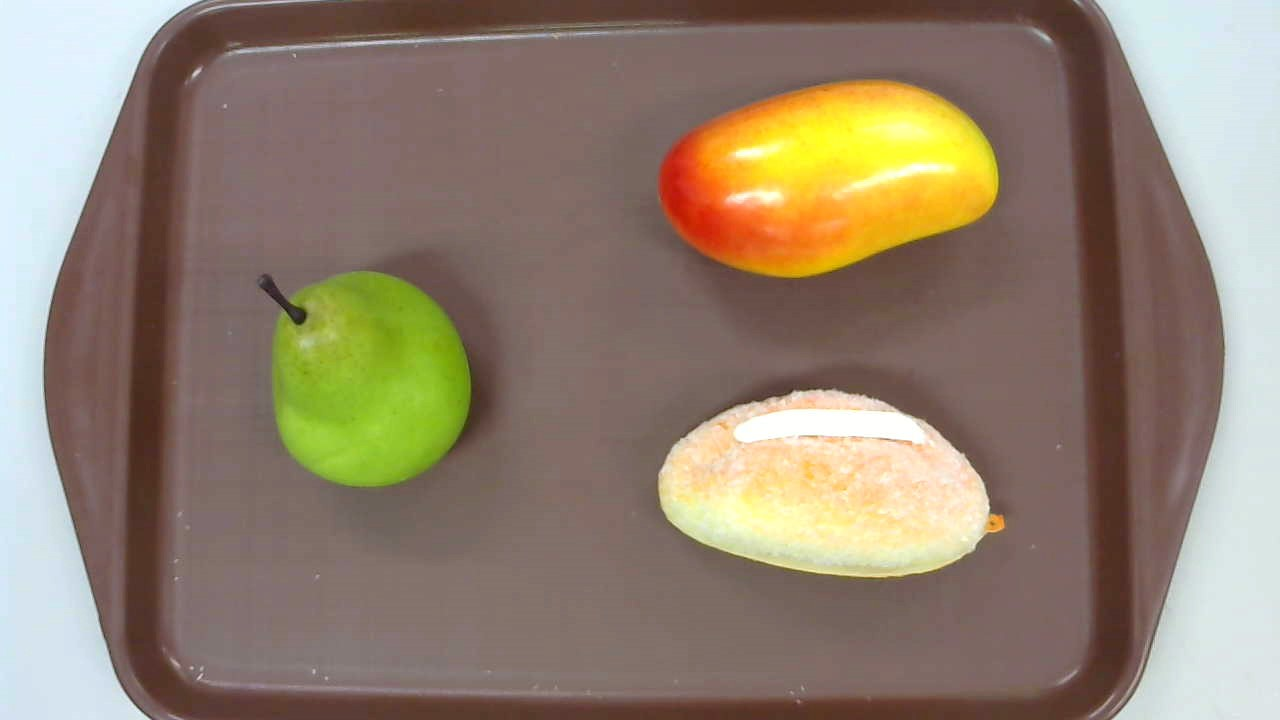coconut: (657, 386, 1005, 578)
green pear: (257, 271, 471, 486)
red mango: (656, 79, 999, 278)
